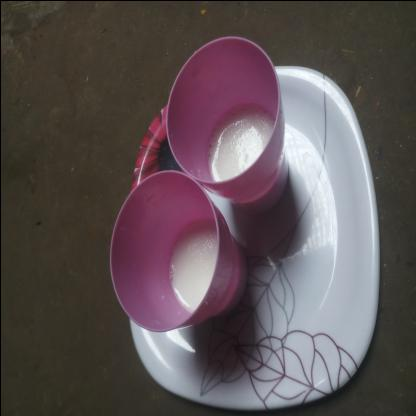cup: (127, 83, 253, 275), (26, 28, 160, 199)
